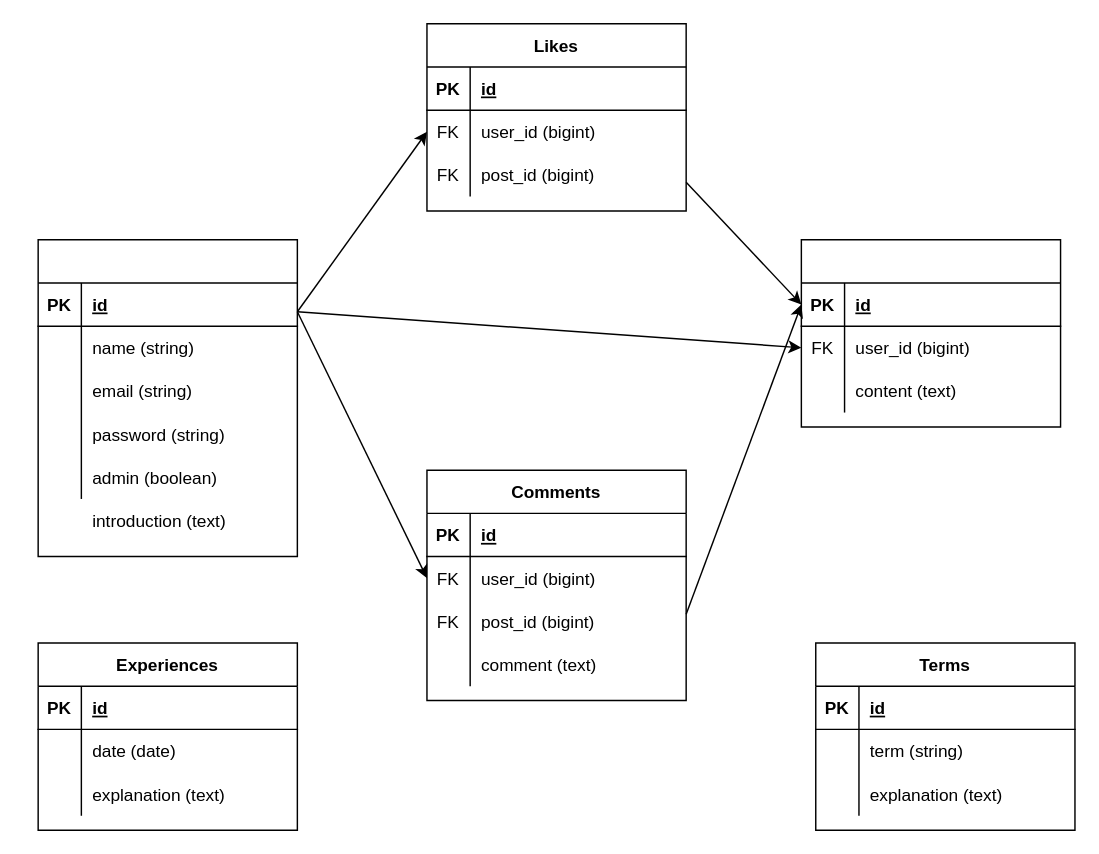
The diagram is 1099 pixels wide and 854 high, and some of its shapes have lost their labels. Each missing label, with the box of its shape:
Posts: (800, 238, 1061, 427)
Users: (37, 238, 297, 557)
